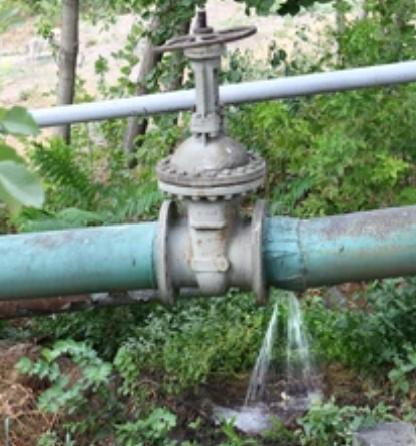pipe burst: (242, 290, 328, 408)
